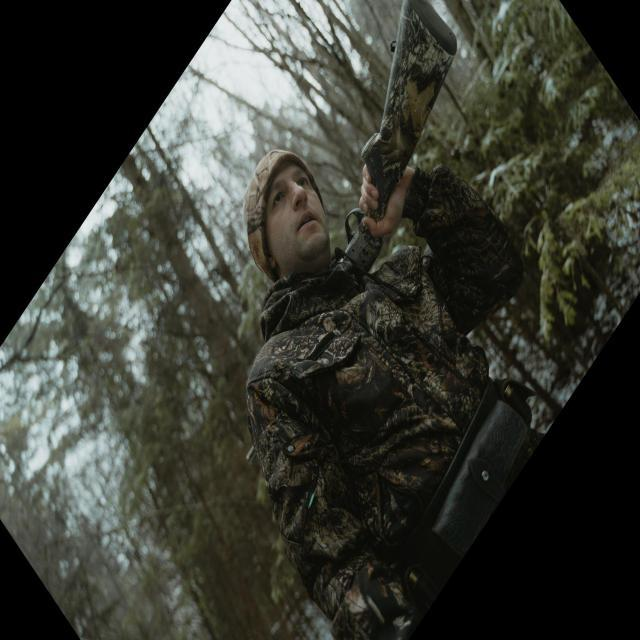weapon: (341, 0, 458, 274)
